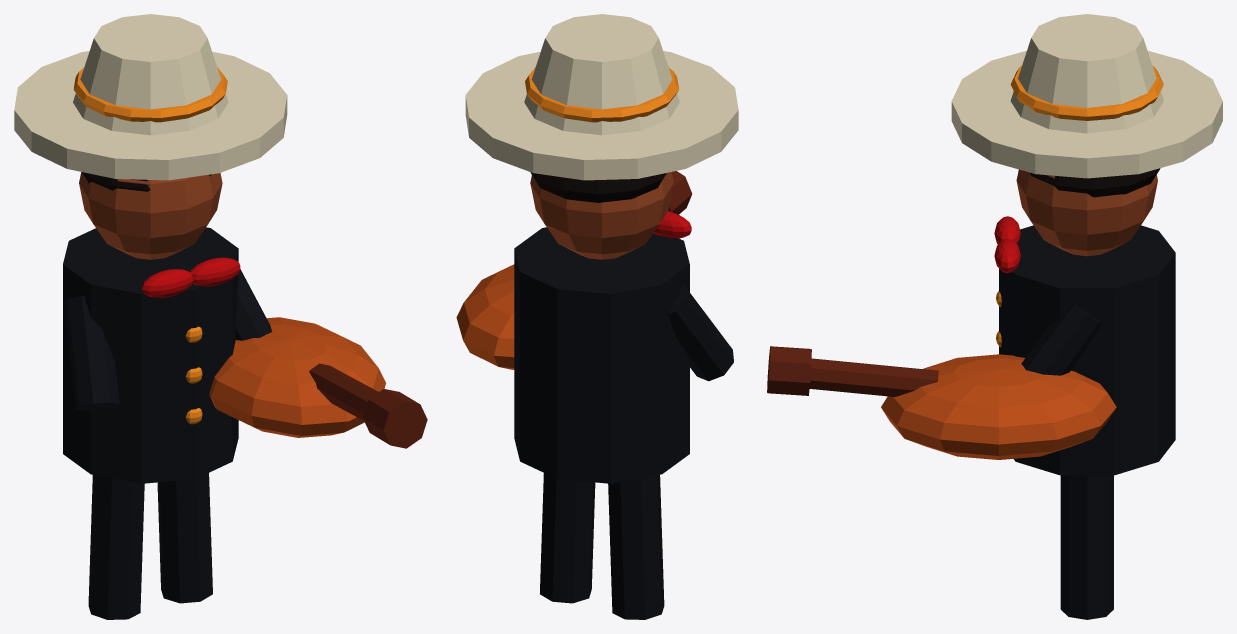
Rendered from mariachi_guitarra.obj.
The picture shows the model from 3 angles, left to right: view 1: azimuth 30°, elevation 25°; view 2: azimuth 150°, elevation 25°; view 3: azimuth 270°, elevation 25°; orthographic projection.
Parts seen in each view (by area): view 1: mariachi_guitarra; view 2: mariachi_guitarra; view 3: mariachi_guitarra.
Boxes of the visible parts, x1=… form: mariachi_guitarra: x1=14, y1=14, x2=427, y2=619; mariachi_guitarra: x1=456, y1=14, x2=738, y2=619; mariachi_guitarra: x1=767, y1=14, x2=1222, y2=619.
Bounding box in the file's own units: 1.12 × 2.08 × 1.55.
